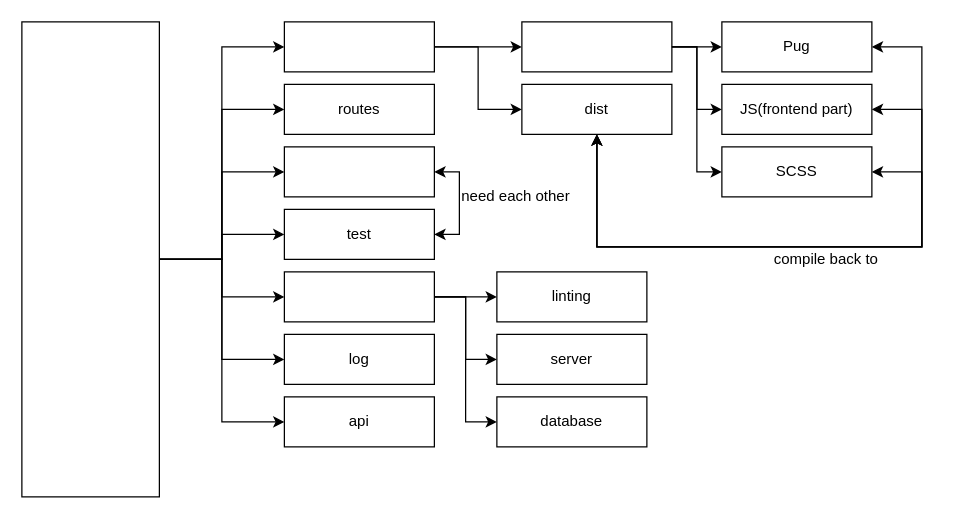
This 955x519 diagram has some shape labels left out. Here are the shapes that lost their labels. From the top down, the box of each, then its label:
(283, 21, 434, 72): static
(521, 21, 672, 72): src
(283, 146, 434, 197): module
(21, 21, 159, 497): Project
(283, 271, 434, 322): setting
